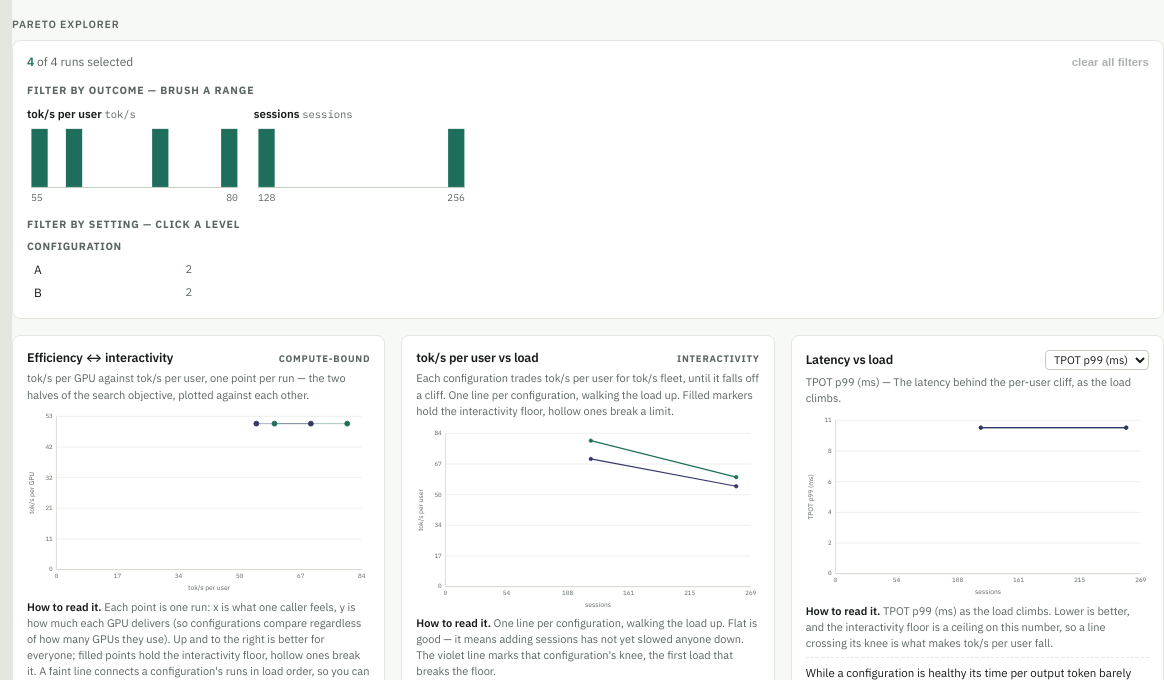
Test case: ScenarioDetail › lets the user switch the latency chart between TPOT / TTFT / E2E
(page scrolled)
Check: the text "TPOT" is shown, box [806,375,880,389]
Select "E2E p99 (ms)" in the dropdown at x=1097, y=360, box [1045,350,1149,370]
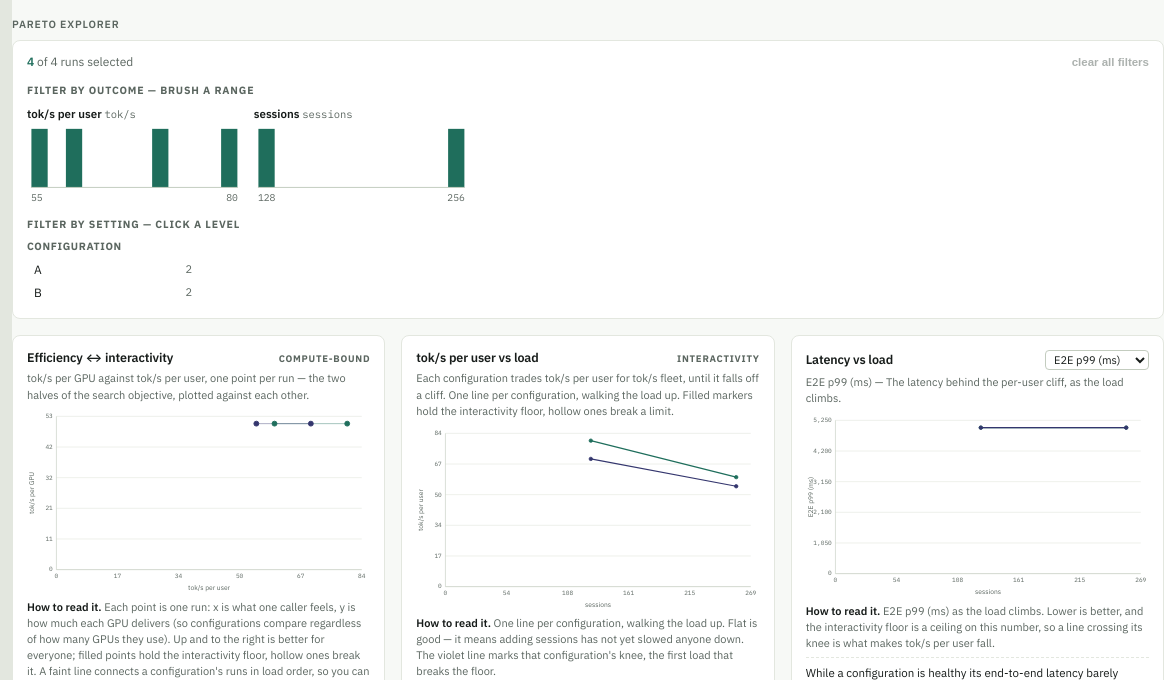
Check: the text "E2E" is shown, box [806,375,872,389]
